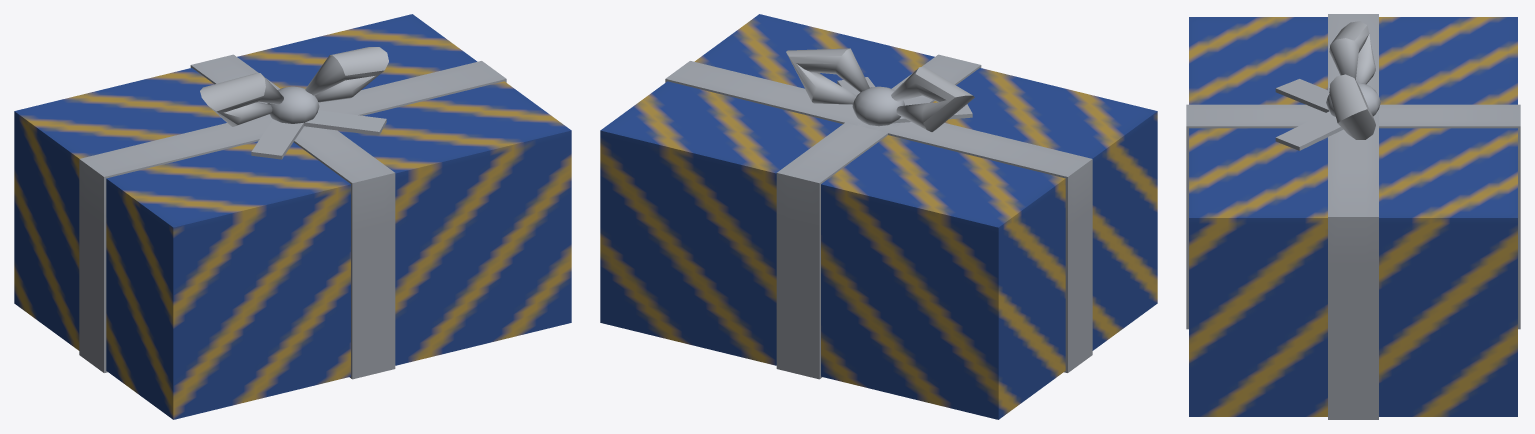
The model's file is Xmas_Present_C.fbx.
3 renders of one model, left to right at view 1: azimuth 30°, elevation 25°; view 2: azimuth 150°, elevation 25°; view 3: azimuth 270°, elevation 25°, orthographic. The views are drawn at different scales.
Parts seen in each view (by area): view 1: Xmas_Present_C; view 2: Xmas_Present_C; view 3: Xmas_Present_C.
Part boxes in pixels (box(x1,y1,x2,y2)): Xmas_Present_C: box(14, 14, 571, 419); Xmas_Present_C: box(600, 14, 1157, 419); Xmas_Present_C: box(1186, 14, 1520, 419).
Size of the model in its own units: 13.14 by 7.91 by 9.14.
